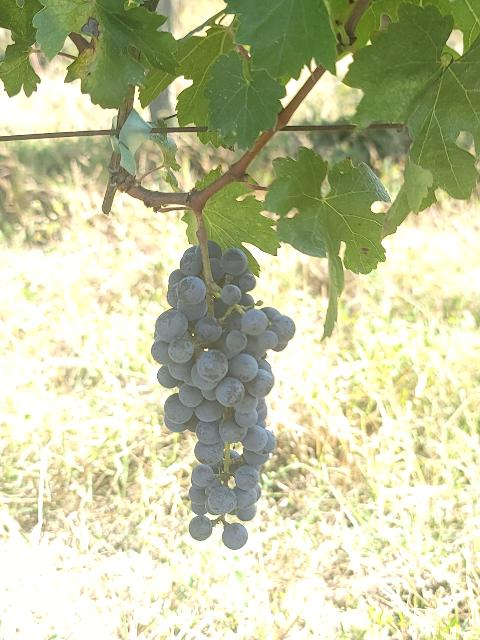grapes: (151, 241, 295, 549)
